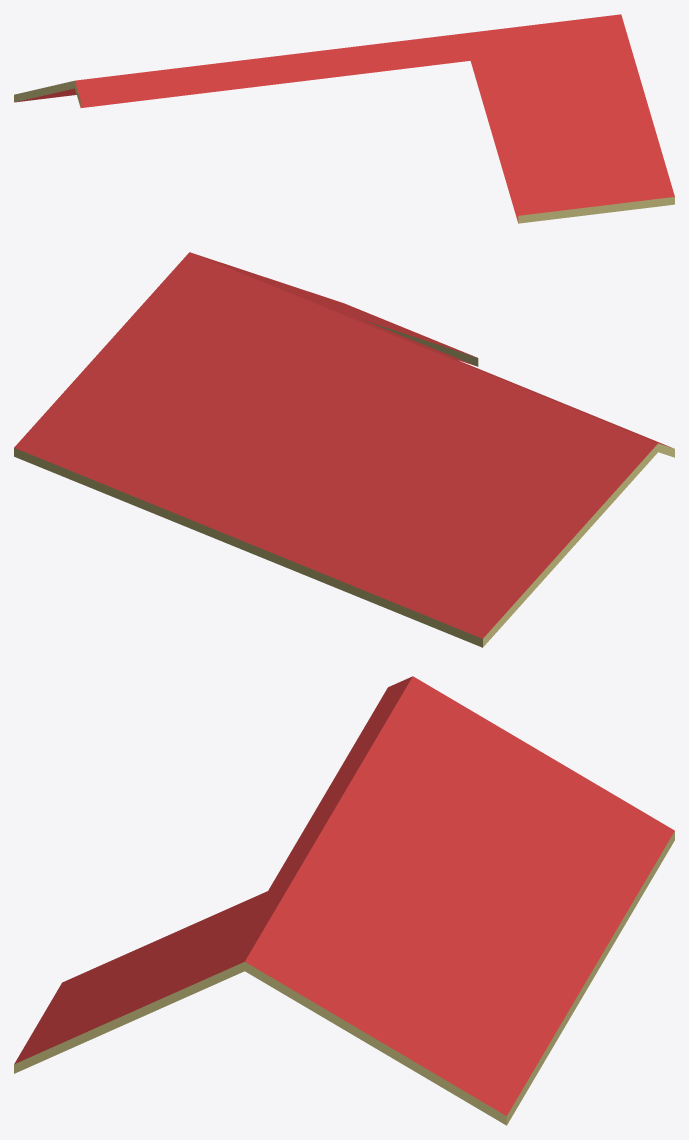
3 views of the same model, one above another, from view 1: azimuth 30°, elevation 25°; view 2: azimuth 150°, elevation 25°; view 3: azimuth 270°, elevation 25° (orthographic). The views are drawn at different scales.
Bounding box in the file's own units: 7.08 × 6.26 × 1.43.
